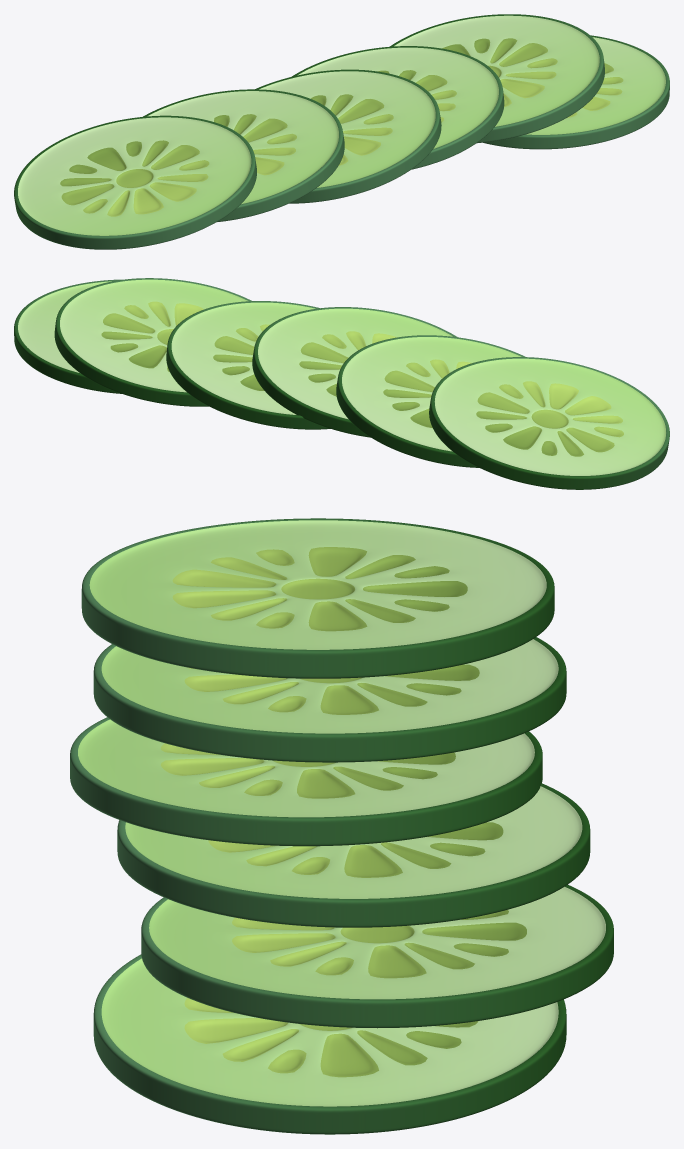
The model's file is HH_SlicedCucumber.fbx.
3 views of the same model, one above another, from view 1: azimuth 30°, elevation 25°; view 2: azimuth 150°, elevation 25°; view 3: azimuth 270°, elevation 25° (orthographic). The views are drawn at different scales.
Visible parts, largest first — view 1: SlicedCucumbers; view 2: SlicedCucumbers; view 3: SlicedCucumbers.
Part boxes in pixels (x1,y1,x2,y2): SlicedCucumbers: [14, 14, 669, 249]; SlicedCucumbers: [14, 278, 669, 489]; SlicedCucumbers: [70, 518, 613, 1134].
Size of the model in its own units: 60.49 by 4.74 by 22.91.
Materials: 1 (1 with a texture image).
